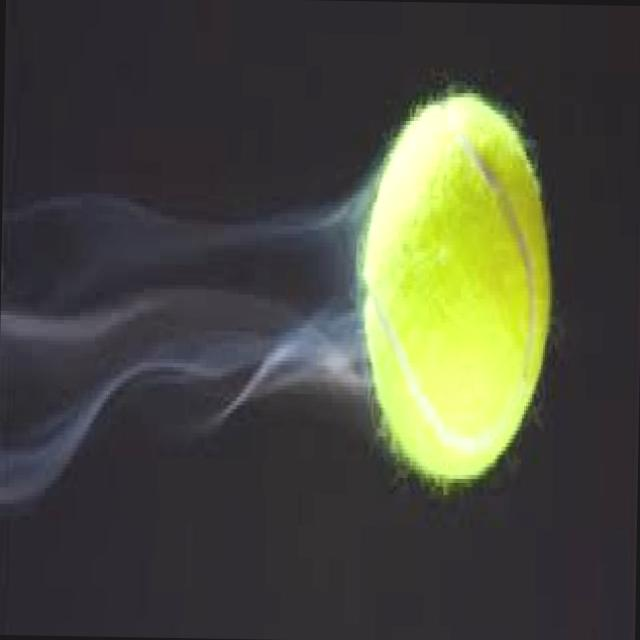Tennis Ball: (359, 97, 549, 483)
